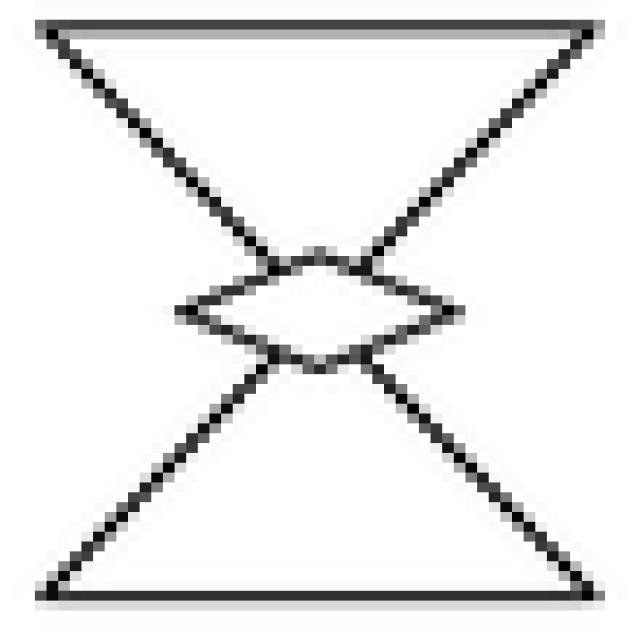Plug Valve: (42, 23, 600, 597)
